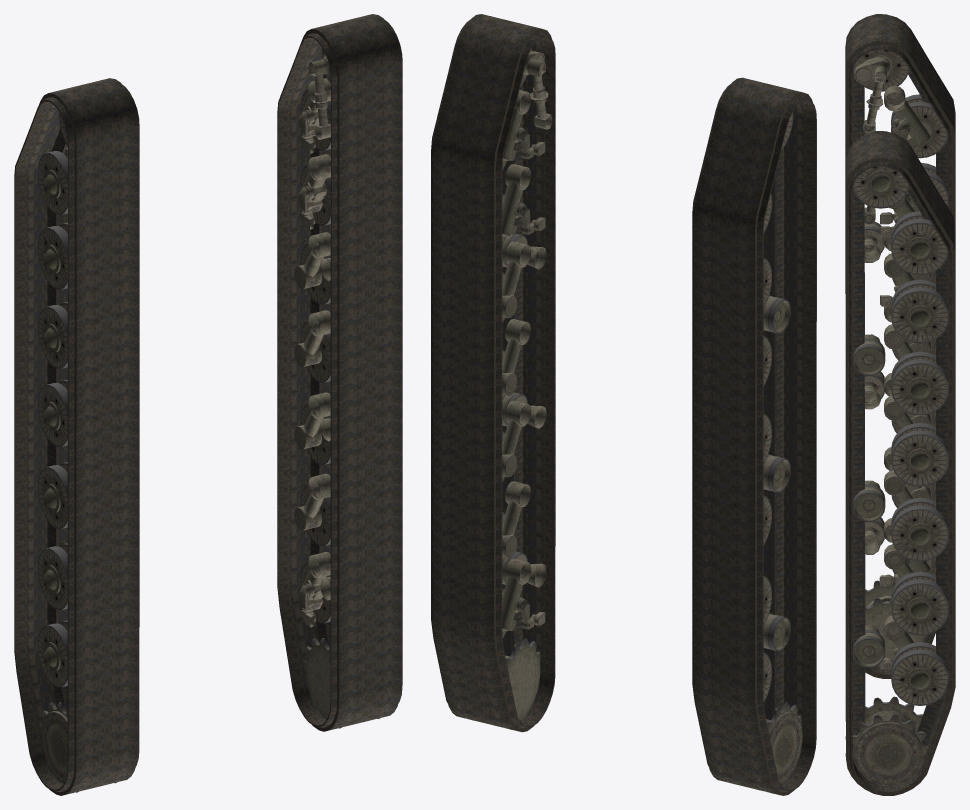
Rendered from Chassis.glb.
3 renders of one model, left to right at view 1: azimuth 30°, elevation 25°; view 2: azimuth 150°, elevation 25°; view 3: azimuth 270°, elevation 25°, orthographic. The views are drawn at different scales.
Visible parts, largest first — view 1: set_0_group_0, set_1_group_0, set_2_group_0, set_3_group_0; view 2: set_0_group_0, set_1_group_0, set_2_group_0, set_3_group_0; view 3: set_2_group_0, set_1_group_0, set_3_group_0, set_0_group_0.
Boxes of the visible parts, bbox=[...] form: set_0_group_0: bbox=[14, 78, 139, 795]; set_1_group_0: bbox=[277, 14, 402, 731]; set_2_group_0: bbox=[294, 48, 389, 728]; set_3_group_0: bbox=[38, 113, 126, 792]; set_0_group_0: bbox=[692, 77, 816, 795]; set_1_group_0: bbox=[431, 14, 555, 732]; set_2_group_0: bbox=[458, 48, 552, 729]; set_3_group_0: bbox=[719, 112, 802, 793]; set_2_group_0: bbox=[845, 166, 948, 785]; set_1_group_0: bbox=[845, 131, 955, 795]; set_3_group_0: bbox=[853, 49, 948, 667]; set_0_group_0: bbox=[845, 14, 955, 678].
Size of the model in its own units: 3.36 by 6.72 by 1.05.
4 materials, 4 textured.
